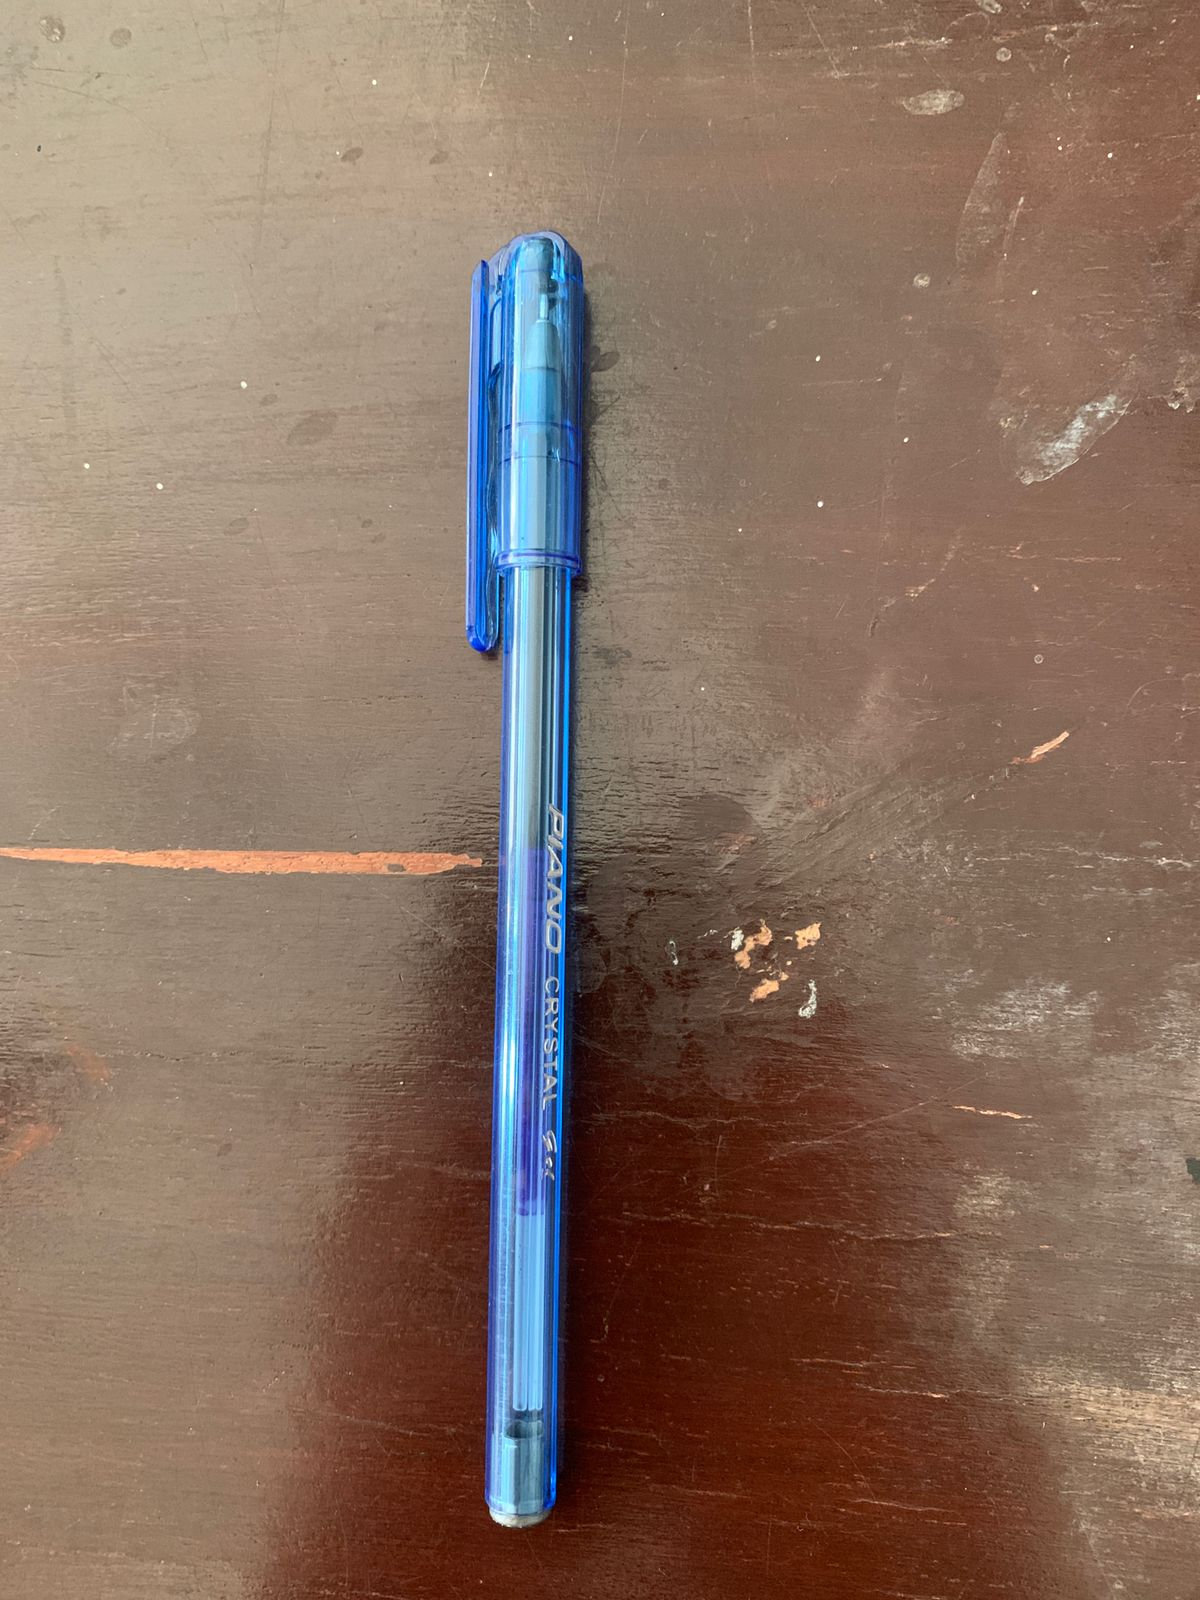pen: (277, 105, 816, 1600)
